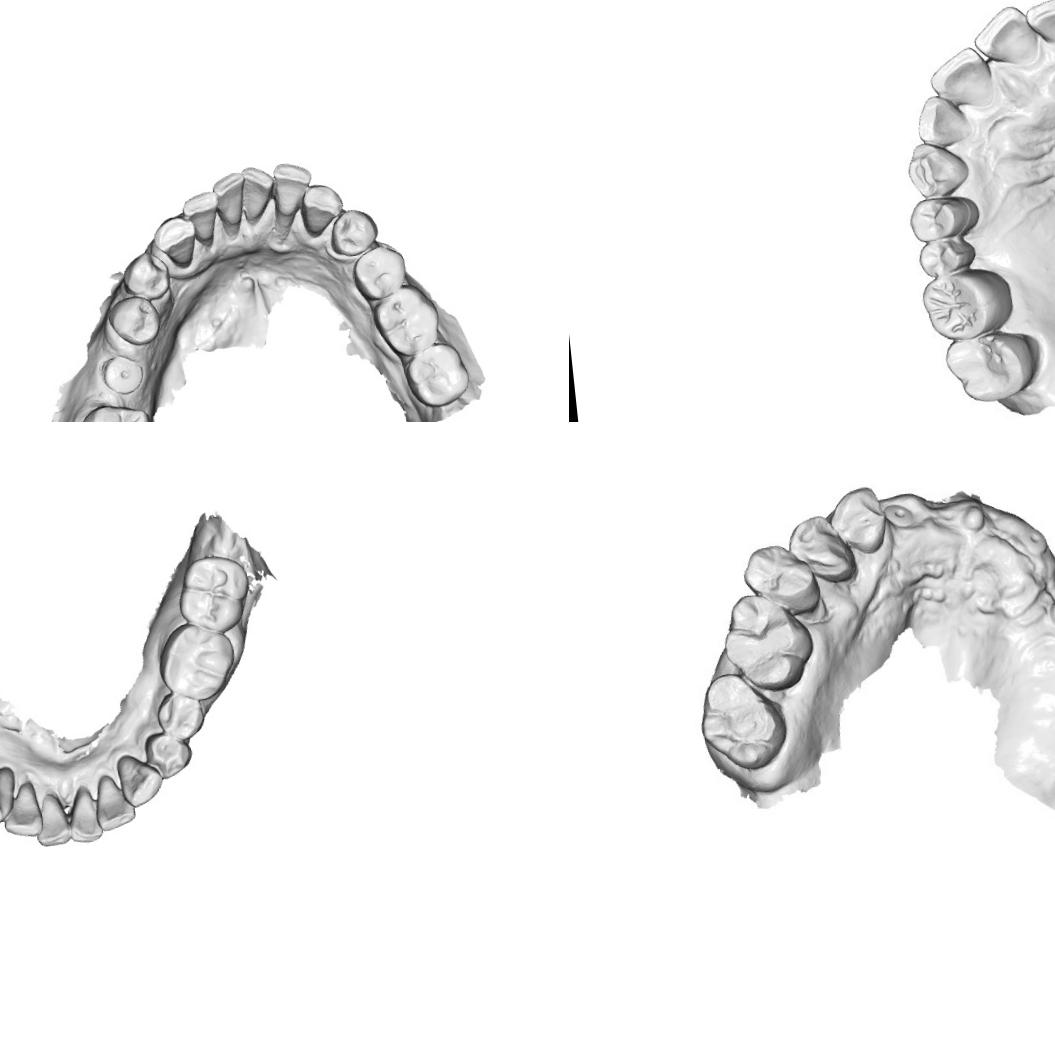canine: (822, 480, 892, 554), (903, 141, 974, 204), (115, 750, 165, 810), (151, 213, 200, 271), (297, 180, 346, 236), (0, 765, 19, 825)
implant: (100, 352, 146, 398), (1016, 522, 1051, 556), (884, 498, 916, 532), (1045, 591, 1055, 634)
incisor: (975, 7, 1042, 72), (929, 48, 994, 107), (268, 160, 317, 233), (912, 96, 971, 150), (179, 188, 224, 252), (91, 772, 137, 833), (210, 170, 250, 238), (0, 780, 44, 840), (238, 162, 278, 226), (64, 782, 104, 844), (31, 790, 72, 848), (1028, 0, 1055, 52)
molar: (714, 586, 815, 694), (695, 669, 788, 771), (943, 326, 1047, 406), (920, 264, 1016, 342), (154, 618, 239, 705), (173, 552, 255, 638), (369, 280, 444, 361), (401, 338, 474, 410), (75, 398, 156, 422)
premolar: (780, 505, 856, 585), (740, 540, 816, 613), (349, 242, 409, 306), (104, 293, 162, 349), (154, 689, 207, 743), (142, 728, 196, 781), (914, 233, 977, 278), (120, 249, 172, 303), (327, 206, 380, 258), (912, 194, 975, 234)
